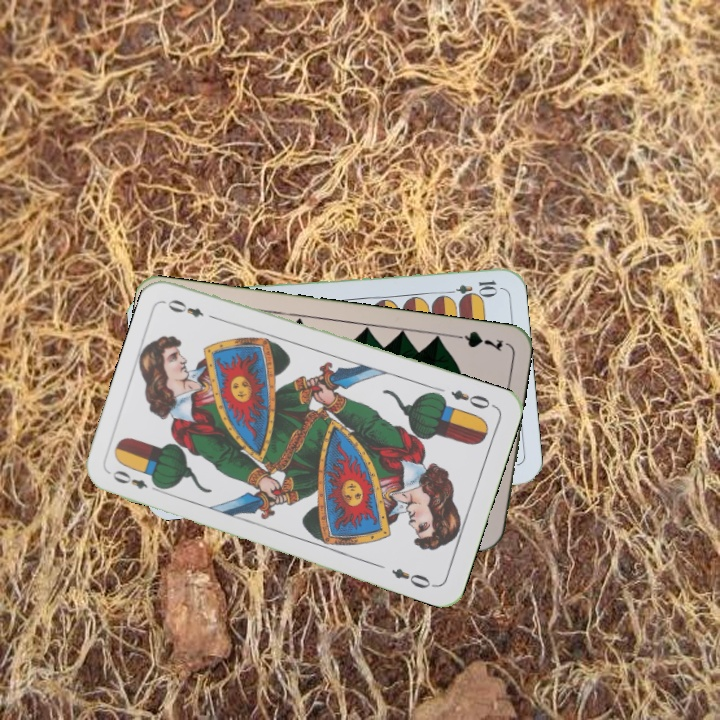E10: (441, 276, 500, 299)
EO: (108, 466, 165, 494), (446, 385, 498, 412)
G7: (447, 327, 506, 354)
